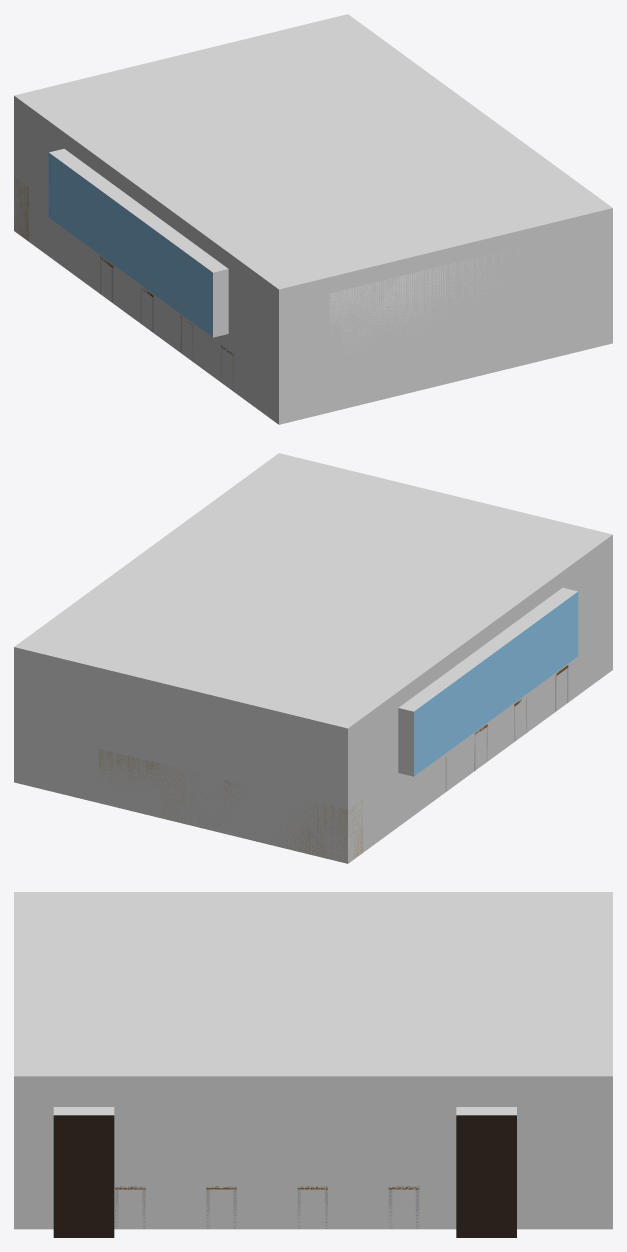
The model's file is _room.obj.
The picture shows the model from 3 angles, top to bottom: view 1: azimuth 30°, elevation 25°; view 2: azimuth 150°, elevation 25°; view 3: azimuth 270°, elevation 25°; orthographic projection. The views are drawn at different scales.
Visible parts, largest first — view 1: room_ceiling, room_wall_north, room_wall_east_bottom, window, room_wall_east_top, whiteboard, room_wall_east_right, window_recess_top, room_wall_east_left, window_recess_side_north, cabinet_01; view 2: room_ceiling, room_wall_south, room_wall_east_bottom, window, room_wall_east_top, room_wall_east_left, window_recess_top, room_wall_east_right, cabinet_01, window_recess_side_south, cabinet_04; view 3: room_ceiling, room_wall_west_seg_b, room_wall_west_top, room_wall_west_seg_c, door1_panel, door2_panel, room_wall_west_seg_a, door1_recess_top, door2_recess_top.
Part boxes in pixels (x1,y1,x2,y2): room_ceiling: [14, 14, 612, 289]; room_wall_north: [279, 208, 612, 424]; room_wall_east_bottom: [14, 177, 278, 424]; window: [48, 152, 212, 337]; room_wall_east_top: [14, 96, 278, 305]; whiteboard: [329, 245, 544, 354]; room_wall_east_right: [228, 269, 278, 370]; window_recess_top: [49, 148, 228, 272]; room_wall_east_left: [14, 112, 63, 201]; window_recess_side_north: [213, 269, 228, 337]; cabinet_01: [14, 179, 28, 241]; room_ceiling: [14, 453, 612, 728]; room_wall_south: [14, 647, 347, 863]; room_wall_east_bottom: [348, 616, 612, 863]; window: [414, 591, 578, 776]; room_wall_east_top: [348, 535, 612, 744]; room_wall_east_left: [348, 708, 398, 809]; window_recess_top: [398, 587, 577, 711]; room_wall_east_right: [563, 551, 612, 640]; cabinet_01: [286, 800, 362, 863]; window_recess_side_south: [398, 708, 413, 776]; cabinet_04: [98, 749, 160, 808]; room_ceiling: [14, 892, 612, 1076]; room_wall_west_seg_b: [114, 1107, 456, 1229]; room_wall_west_top: [14, 1076, 612, 1106]; room_wall_west_seg_c: [517, 1107, 612, 1229]; door1_panel: [53, 1115, 114, 1237]; door2_panel: [456, 1115, 516, 1237]; room_wall_west_seg_a: [14, 1107, 53, 1229]; door1_recess_top: [53, 1107, 114, 1115]; door2_recess_top: [456, 1107, 516, 1115].
Bounding box in the file's own units: 7.05 × 2.5 × 8.87.
